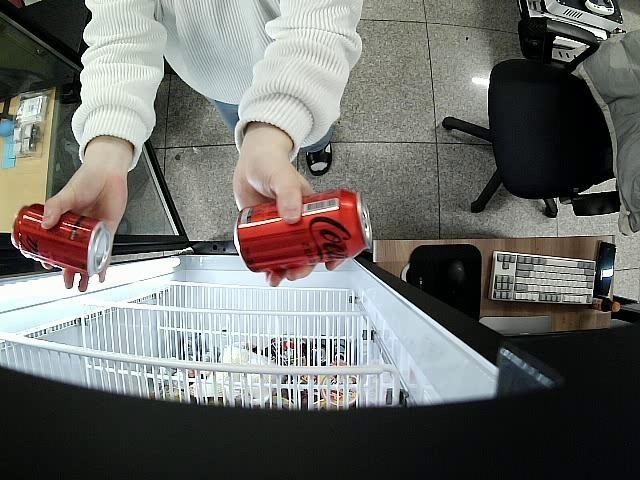11_cocaColaZero: (234, 186, 372, 272), (10, 202, 112, 276)
